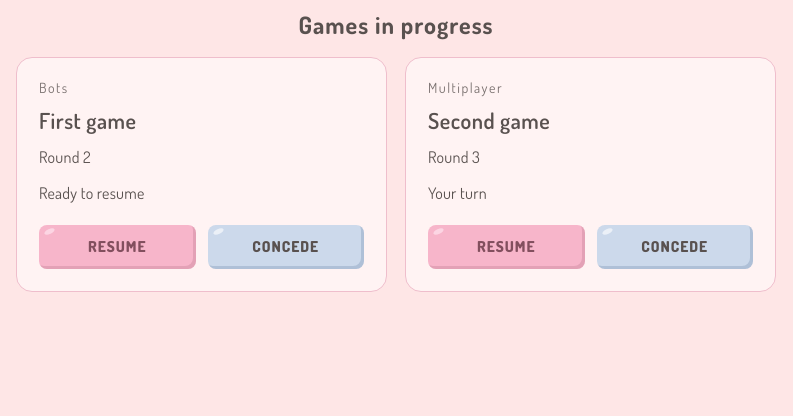
Test: keeps games visible and reports a failed concession
The image size is (793, 416).
Click the button "Concede" below "Ready to resume" at x=286, y=247, box [208,225,364,269]
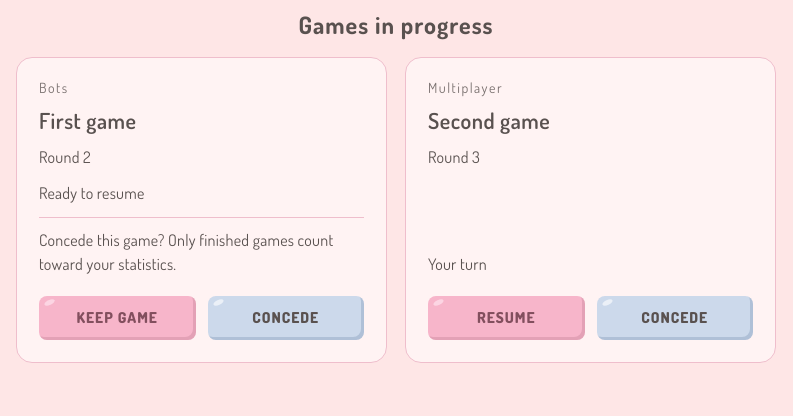
Click the button "Concede" below "Ready to resume" at x=286, y=318, box [208,296,364,340]
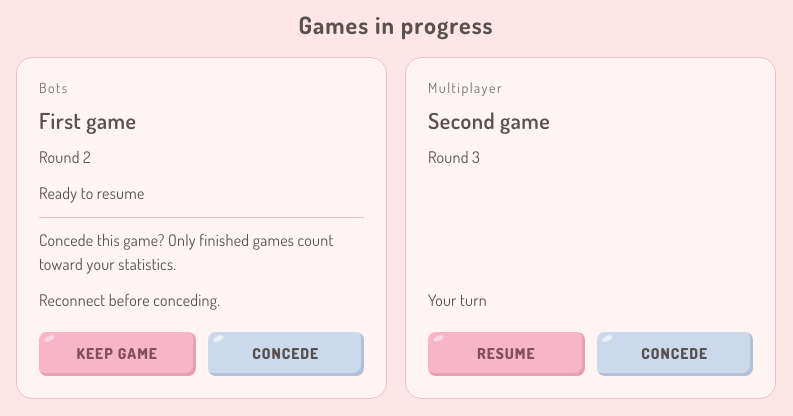
Expected: the message "Reconnect before conceding." is shown, [39,290,220,310]
